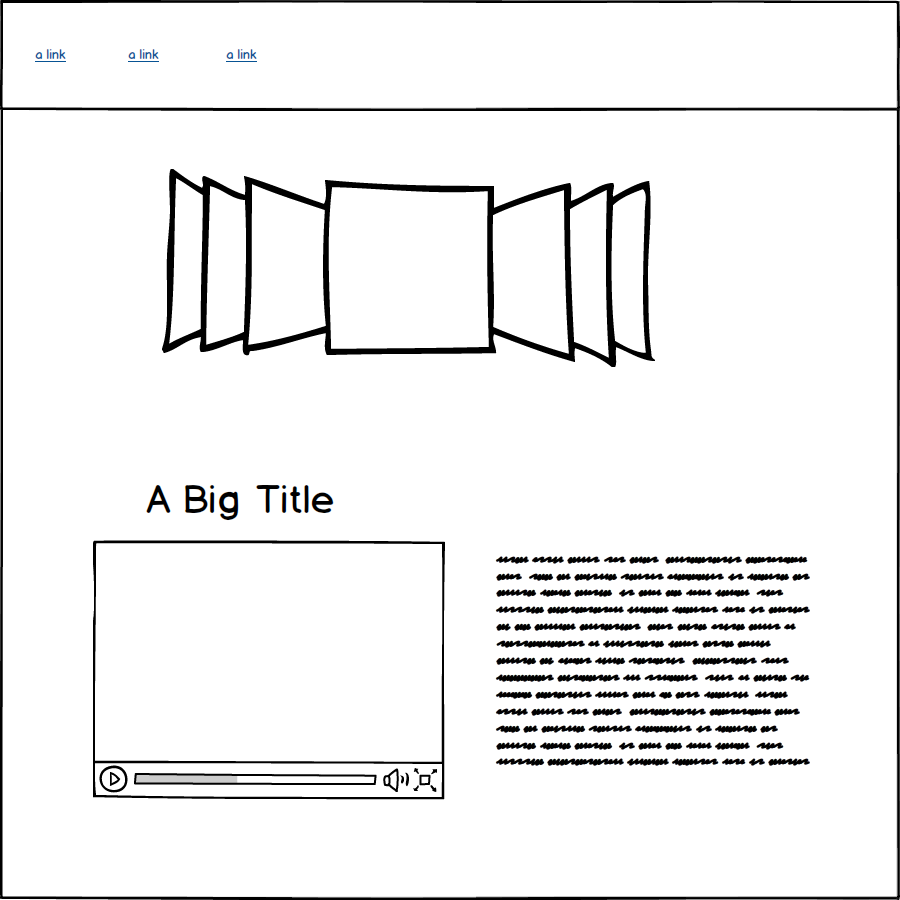h1: (139, 475, 344, 525)
navlink: (218, 38, 260, 66), (123, 41, 168, 67), (31, 43, 78, 66)
p: (493, 545, 824, 775)
slideshow: (138, 162, 672, 374)
video: (89, 534, 449, 808)
